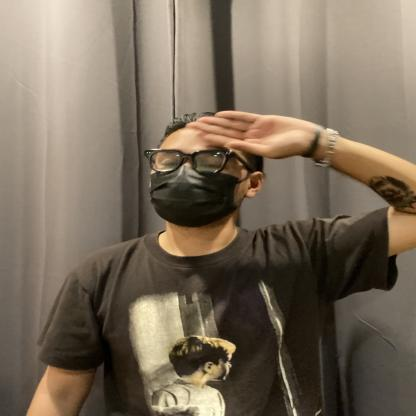Sick: (92, 88, 370, 183)
